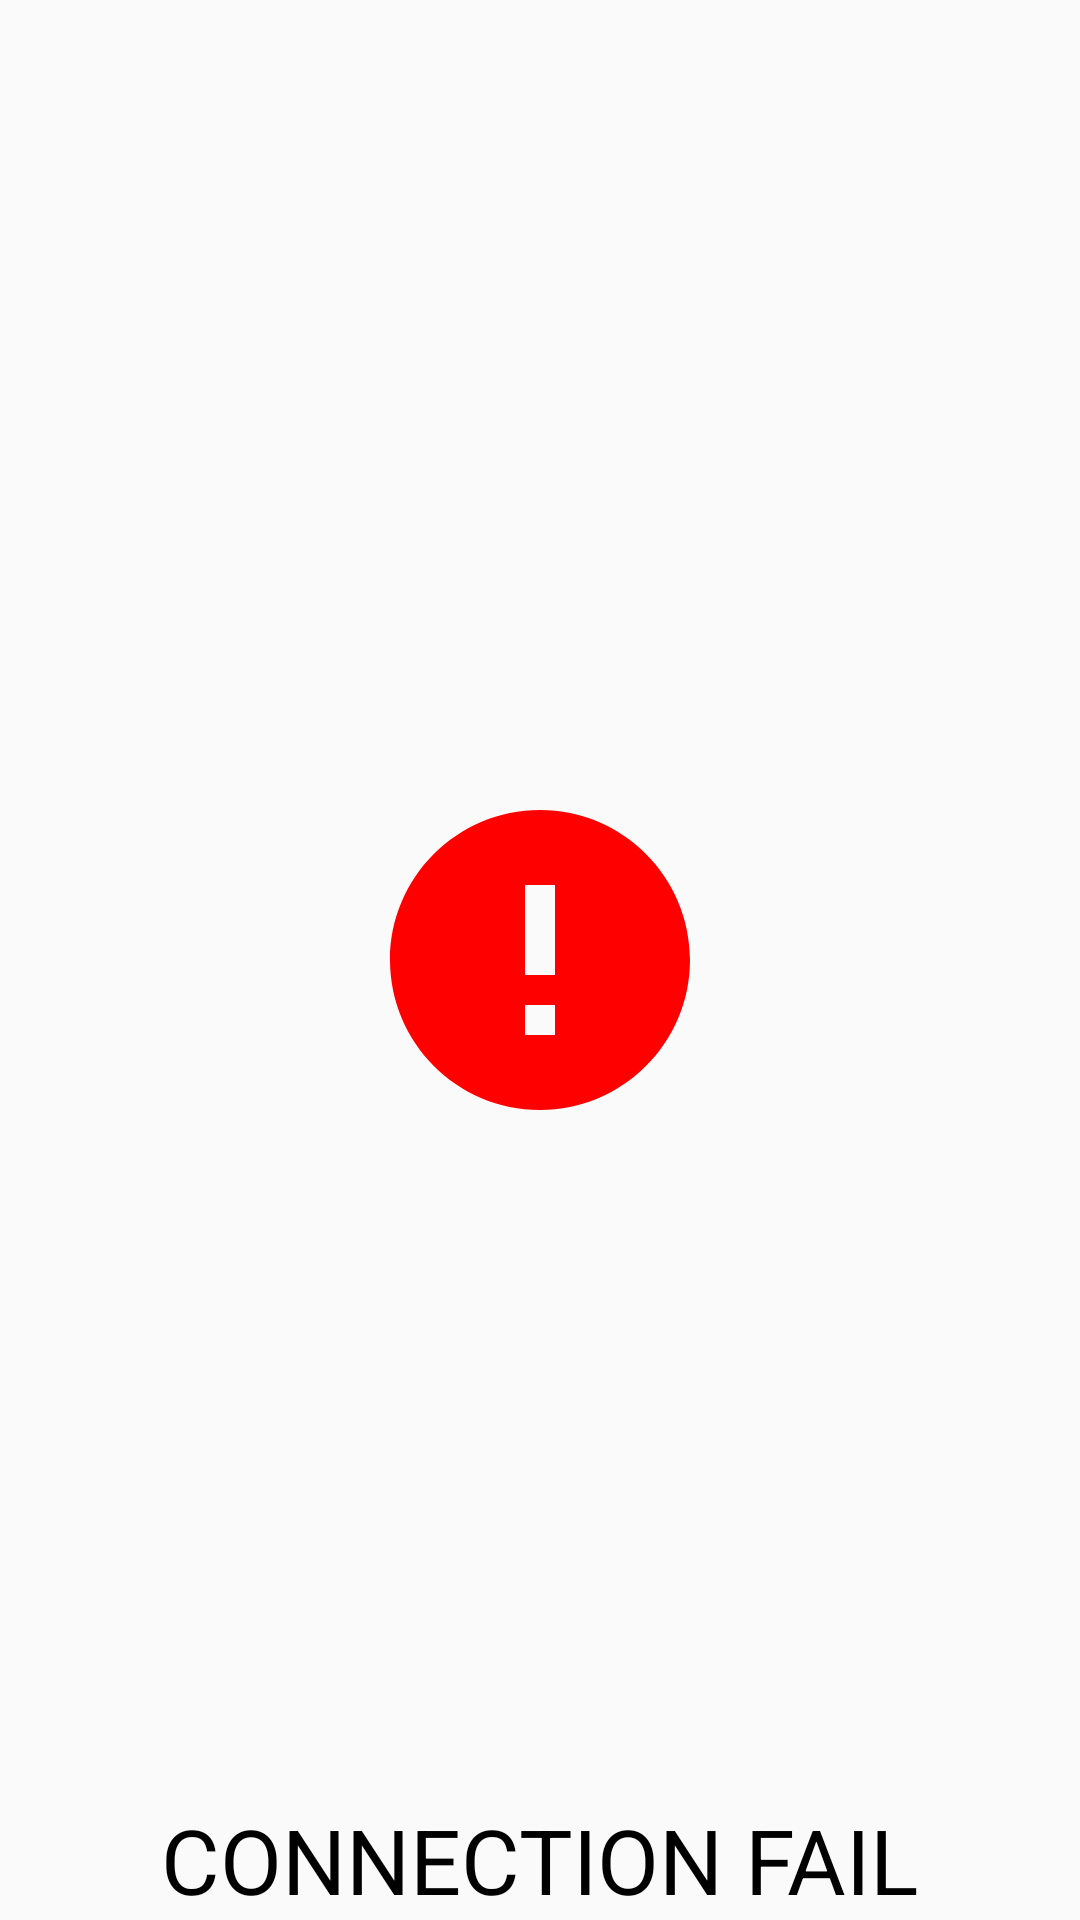

Icon click points for this 1080x1920 phone screenshot, format (x=x, y=y):
error: (x=540, y=960)
